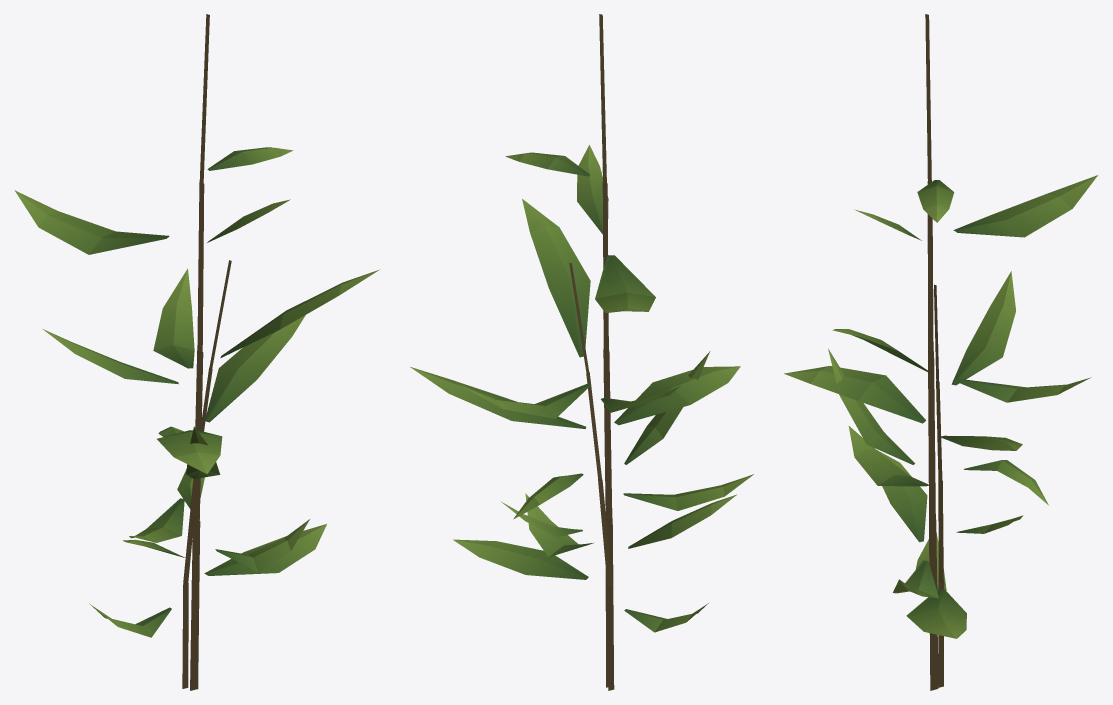
Rendered from forest_shrub_001_d_LOD2.gltf.
3 views of the same model, side by side, from view 1: azimuth 30°, elevation 25°; view 2: azimuth 150°, elevation 25°; view 3: azimuth 270°, elevation 25° (orthographic). The views are drawn at different scales.
Parts seen in each view (by area): view 1: forest_shrub_001_d_LOD2; view 2: forest_shrub_001_d_LOD2; view 3: forest_shrub_001_d_LOD2.
Part boxes in pixels (x1,y1,x2,y2): forest_shrub_001_d_LOD2: (14,14,379,690); forest_shrub_001_d_LOD2: (410,14,753,690); forest_shrub_001_d_LOD2: (784,14,1097,690).
Bounding box in the file's own units: 0.5634 × 1.33 × 0.5585.
1 material, 1 textured.
